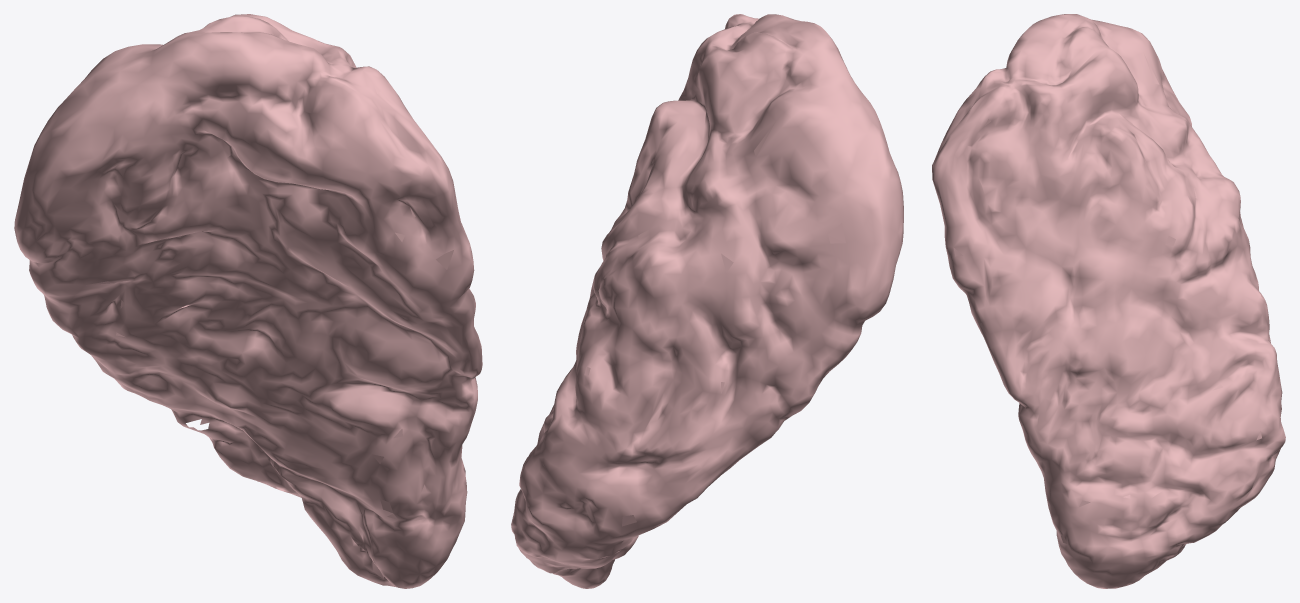
Rendered from 3d-vh-m-palatine-tonsil-l-80.glb.
The picture shows the model from 3 angles, left to right: view 1: azimuth 30°, elevation 25°; view 2: azimuth 150°, elevation 25°; view 3: azimuth 270°, elevation 25°; orthographic projection. The views are drawn at different scales.
Visible parts, largest first — view 1: VH_M_palatine_tonsil_L; view 2: VH_M_palatine_tonsil_L; view 3: VH_M_palatine_tonsil_L.
Boxes of the visible parts, left/top/right/bottom form: VH_M_palatine_tonsil_L: left=14, top=14, right=482, bottom=588; VH_M_palatine_tonsil_L: left=511, top=14, right=903, bottom=588; VH_M_palatine_tonsil_L: left=932, top=14, right=1285, bottom=588.
Bounding box in the file's own units: 0.0163 × 0.0243 × 0.0159.
